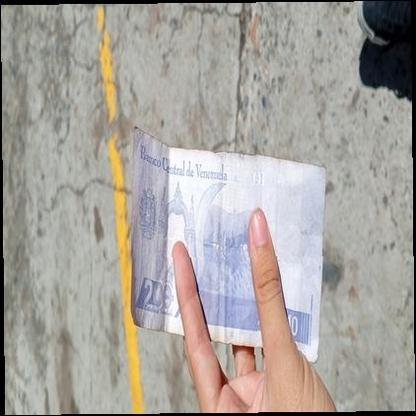ten-back-vef: (131, 127, 325, 366)
